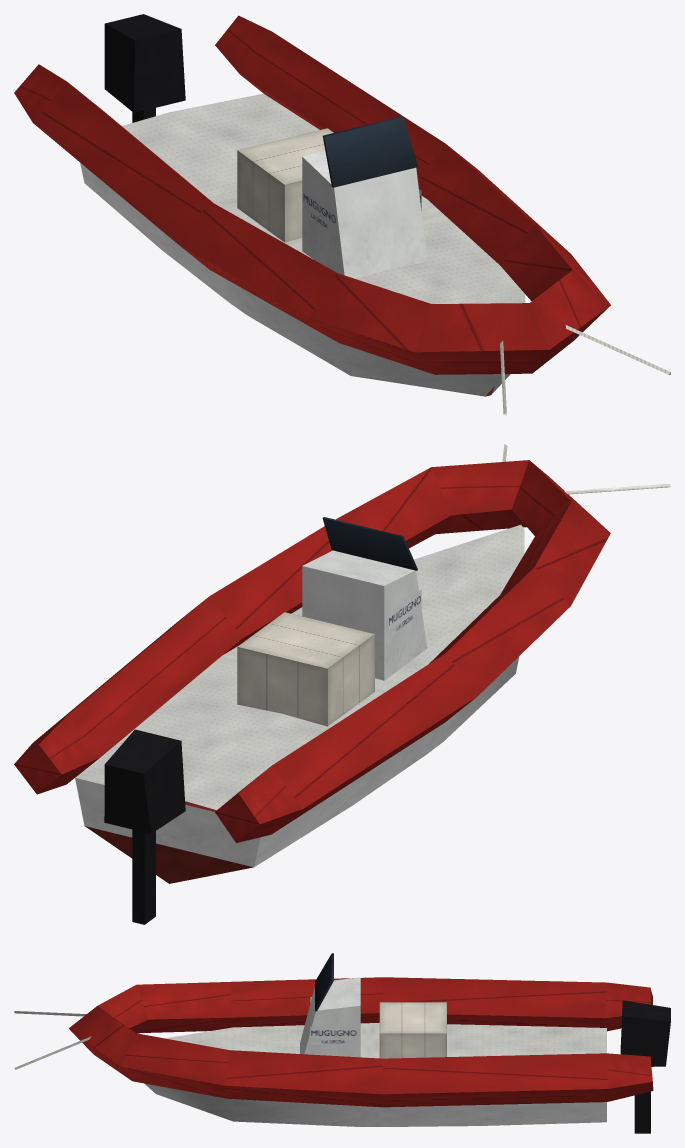
Rendered from SM_Morin_Barca_Gommone_Rosso_Prua_LOD2.fbx.
3 views of the same model, one above another, from view 1: azimuth 30°, elevation 25°; view 2: azimuth 150°, elevation 25°; view 3: azimuth 270°, elevation 25° (orthographic). The views are drawn at different scales.
Visible parts, largest first — view 1: SM_Morin_Barca_Gommone_Rosso_Prua_LOD2; view 2: SM_Morin_Barca_Gommone_Rosso_Prua_LOD2; view 3: SM_Morin_Barca_Gommone_Rosso_Prua_LOD2.
Part boxes in pixels (x1=…): SM_Morin_Barca_Gommone_Rosso_Prua_LOD2: x1=14, y1=14, x2=670, y2=415; SM_Morin_Barca_Gommone_Rosso_Prua_LOD2: x1=14, y1=444, x2=670, y2=924; SM_Morin_Barca_Gommone_Rosso_Prua_LOD2: x1=14, y1=953, x2=670, y2=1133.
Bounding box in the file's own units: 220 × 587 × 162.
1 material, 1 textured.
